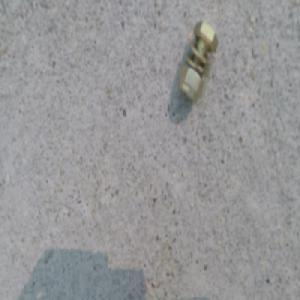BoltNutSet: (178, 20, 218, 98)
